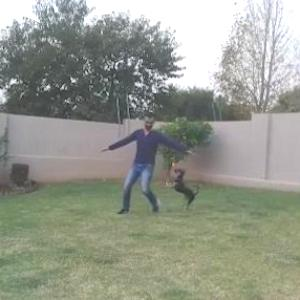land: (107, 112, 202, 224)
